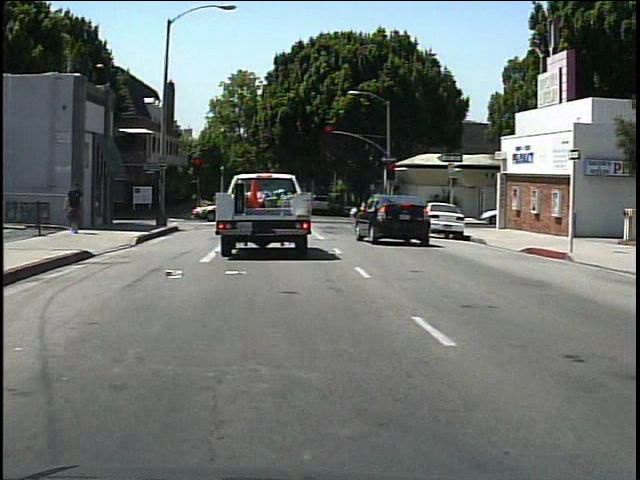person: (66, 180, 91, 236)
